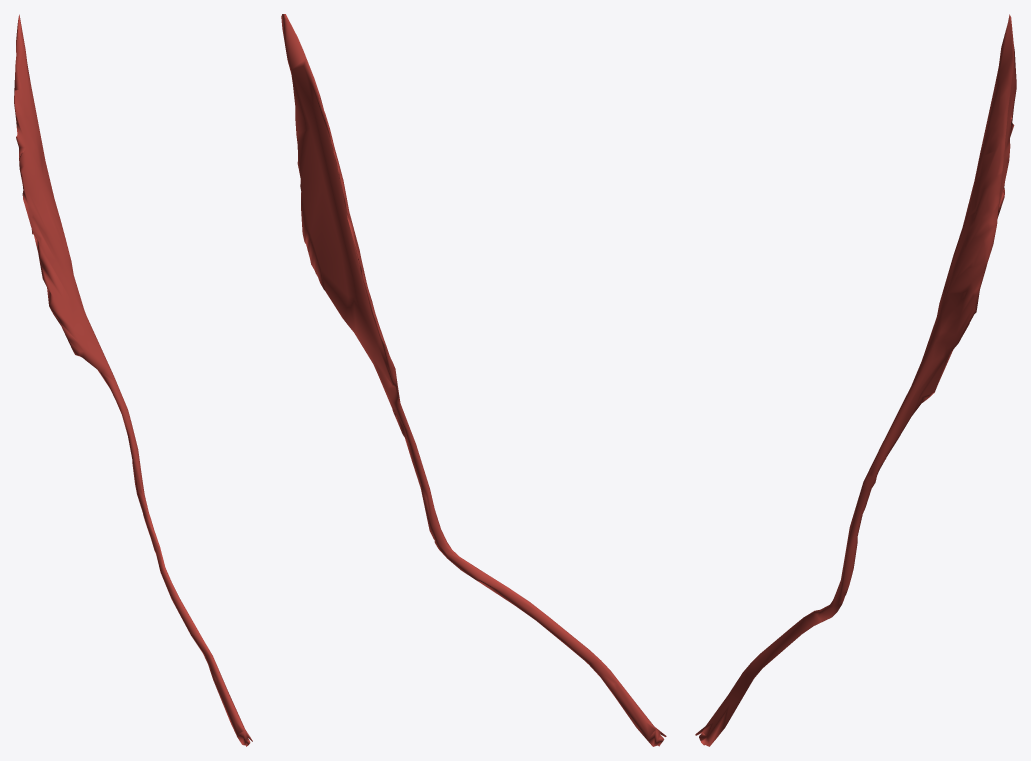
File: musculos-flexor-pollicis-longus-r.glb
3 renders of one model, left to right at view 1: azimuth 90°, elevation 25°; view 2: azimuth 150°, elevation 25°; view 3: azimuth 270°, elevation 25°, orthographic. The views are drawn at different scales.
Parts seen in each view (by area): view 1: Flexor pollicis longus.r; view 2: Flexor pollicis longus.r; view 3: Flexor pollicis longus.r.
Part boxes in pixels (x1,y1,x2,y2): Flexor pollicis longus.r: [14, 14, 252, 746]; Flexor pollicis longus.r: [281, 14, 666, 746]; Flexor pollicis longus.r: [695, 14, 1016, 746].
Size of the model in its own units: 0.0781 by 0.2381 by 0.0808.
